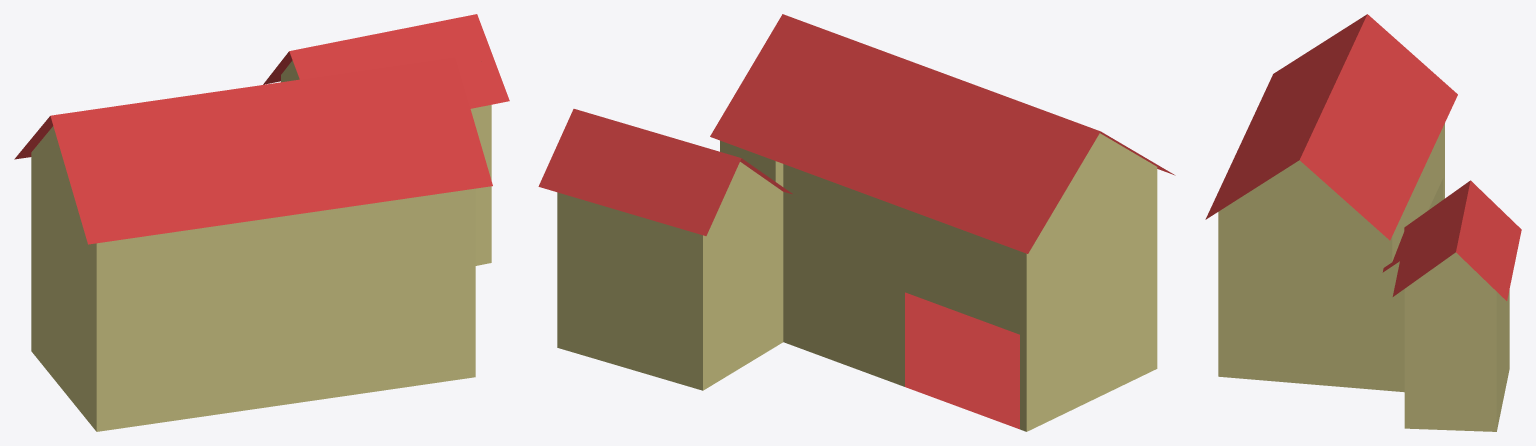
The picture shows the model from 3 angles, left to right: view 1: azimuth 30°, elevation 25°; view 2: azimuth 150°, elevation 25°; view 3: azimuth 270°, elevation 25°; orthographic projection. The views are drawn at different scales.
Bounding box in the file's own units: 31.95 × 21.07 × 16.76.
